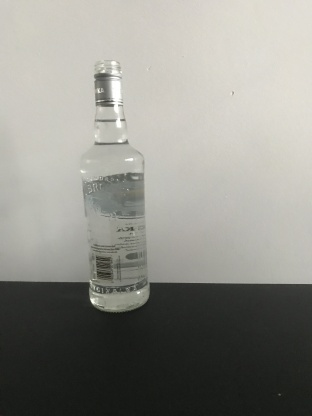nakretka: (92, 58, 124, 107), (107, 68, 141, 106)
